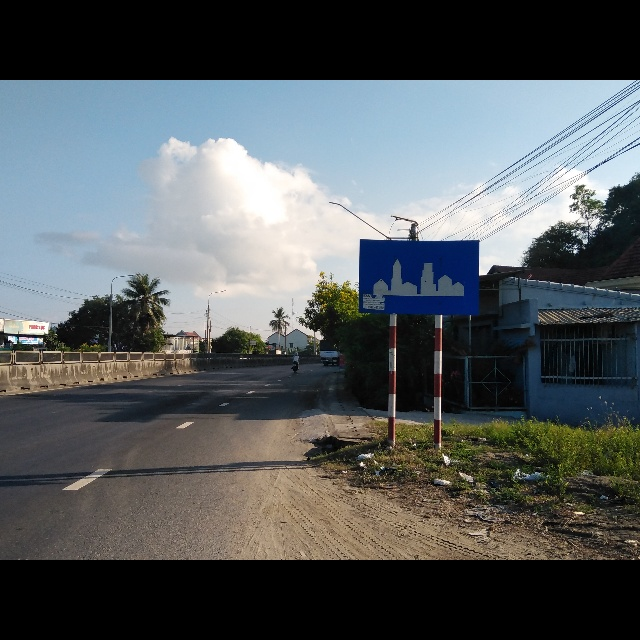Khu đông dân cư: (358, 238, 479, 318)
